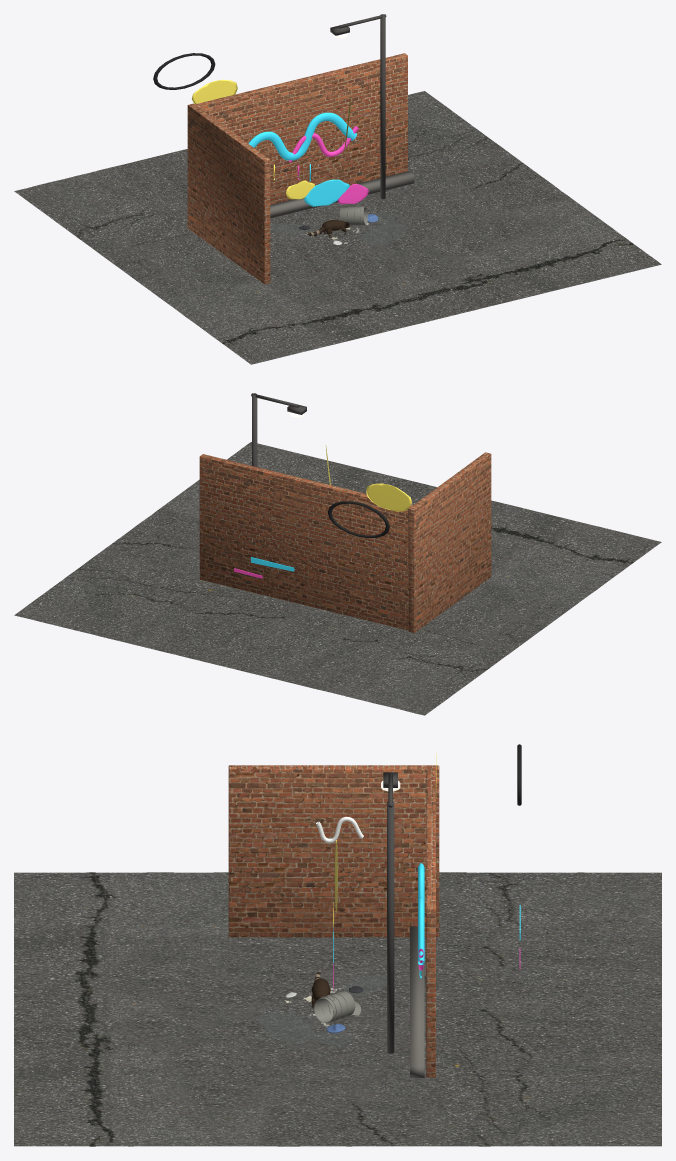
3 views of the same model, one above another, from view 1: azimuth 30°, elevation 25°; view 2: azimuth 150°, elevation 25°; view 3: azimuth 270°, elevation 25° (orthographic). The views are drawn at different scales.
Visible parts, largest first — view 1: Ground_Asphalt.001, Wall_Brick.001, Wall_Brick_Side.001, Graffiti_Tag_Cyan.001, Curb_Concrete.001, StreetLamp_Pole.001, Graffiti_Blob_Cyan.001, Graffiti_Throwup_Yellow.001, Puddle_01.001, Graffiti_Throwup_Outline.001; view 2: Ground_Asphalt.001, Wall_Brick.001, Wall_Brick_Side.001, Graffiti_Throwup_Yellow.001, Graffiti_Throwup_Outline.001; view 3: Ground_Asphalt.001, Wall_Brick_Side.001, Wall_Brick.001, StreetLamp_Pole.001, Curb_Concrete.001, Puddle_01.001, TrashCan_Metal.001, Graffiti_Tag_Cyan.001.
Boxes of the visible parts, left/top/right/bottom form: Ground_Asphalt.001: left=14, top=91, right=661, bottom=364; Wall_Brick.001: left=190, top=53, right=407, bottom=204; Wall_Brick_Side.001: left=187, top=103, right=270, bottom=284; Graffiti_Tag_Cyan.001: left=248, top=112, right=356, bottom=160; Curb_Concrete.001: left=270, top=171, right=414, bottom=218; StreetLamp_Pole.001: left=380, top=14, right=385, bottom=199; Graffiti_Blob_Cyan.001: left=304, top=179, right=349, bottom=206; Graffiti_Throwup_Yellow.001: left=192, top=79, right=237, bottom=104; Puddle_01.001: left=362, top=224, right=407, bottom=245; Graffiti_Throwup_Outline.001: left=153, top=53, right=215, bottom=89; Ground_Asphalt.001: left=14, top=442, right=661, bottom=715; Wall_Brick.001: left=199, top=454, right=417, bottom=630; Wall_Brick_Side.001: left=408, top=452, right=491, bottom=633; Graffiti_Throwup_Yellow.001: left=366, top=483, right=411, bottom=511; Graffiti_Throwup_Outline.001: left=327, top=501, right=389, bottom=537; Ground_Asphalt.001: left=14, top=872, right=661, bottom=1146; Wall_Brick_Side.001: left=228, top=765, right=439, bottom=937; Wall_Brick.001: left=426, top=765, right=435, bottom=1077; StreetLamp_Pole.001: left=387, top=801, right=394, bottom=1053; Curb_Concrete.001: left=410, top=926, right=424, bottom=1077; Puddle_01.001: left=258, top=1012, right=313, bottom=1043; TrashCan_Metal.001: left=314, top=991, right=355, bottom=1022; Graffiti_Tag_Cyan.001: left=418, top=863, right=424, bottom=965.
Size of the model in its own units: 8 by 3.47 by 8.
Materials: 29 (3 with a texture image).
